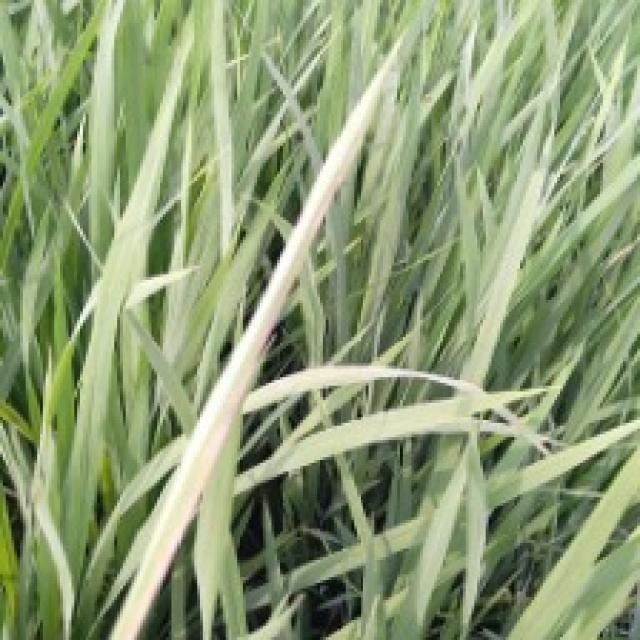Rice___Bacterial_Leaf_Blight: (107, 25, 410, 637)
